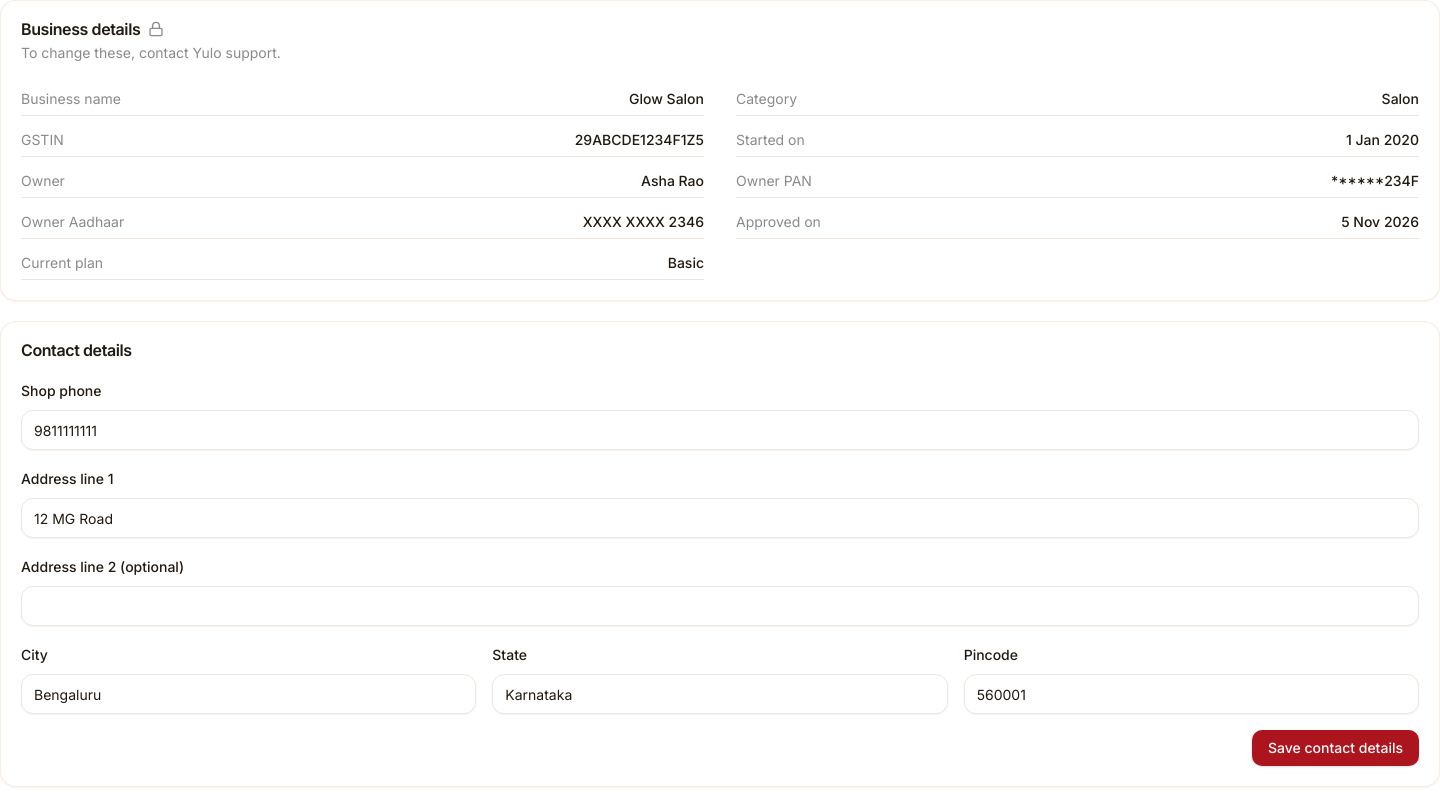
Test: Profile — business › business details read-only, identity masked; the owner edits the contact details
Check: the text "******234F" is shown, box [1331, 171, 1419, 191]
Check: the text "XXXX XXXX 2346" is shown, box [583, 212, 704, 232]
Replace the text in the field labelled "Shop phone" with "123" at (720, 430), box [21, 410, 1419, 450]
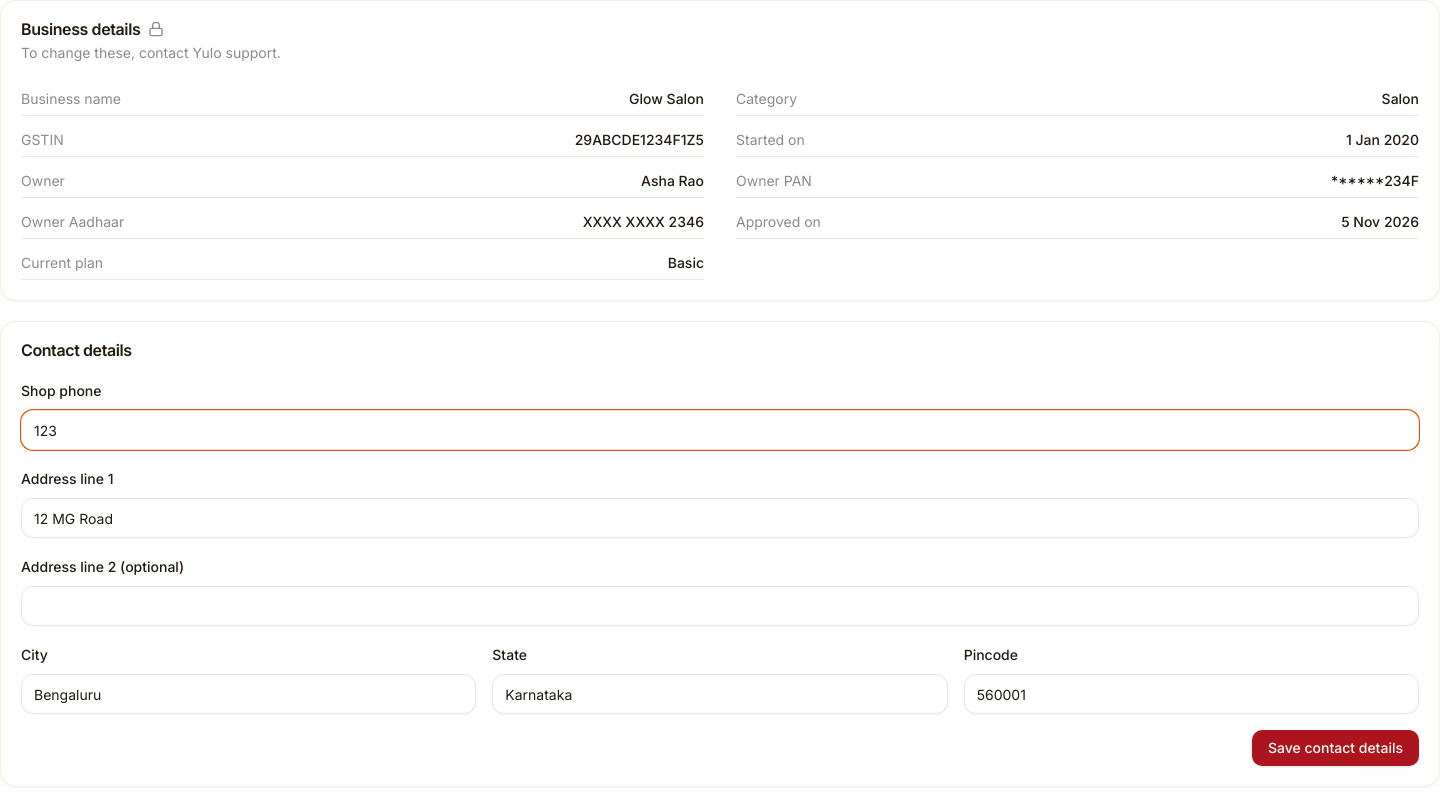
Click the button "Save contact details" at (1335, 748), box [1252, 730, 1419, 766]
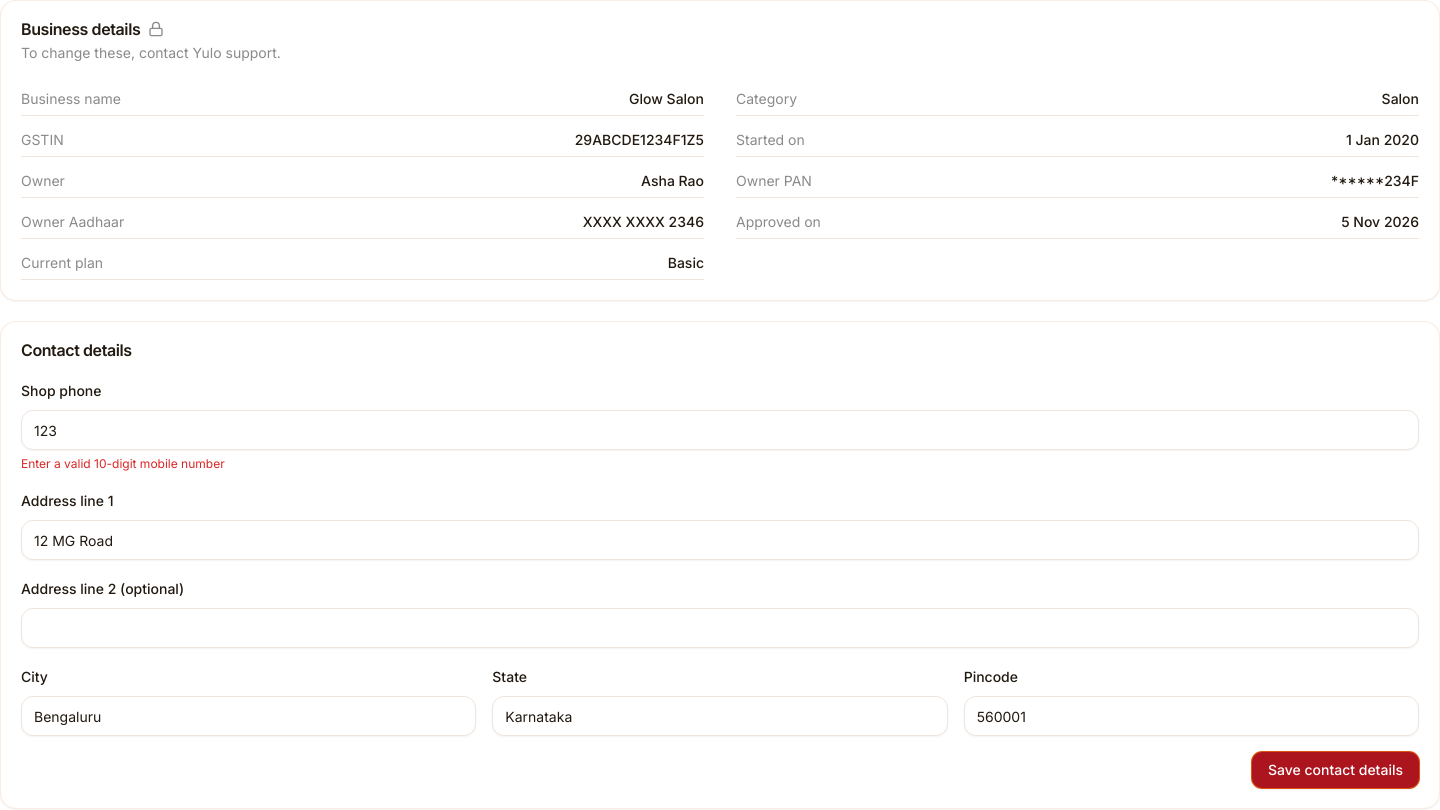
Check: the text "Enter a valid 10-digit mobile number" is shown, box [21, 456, 225, 471]
Replace the text in the field labelled "Shop phone" with "98444 44444" at (720, 430), box [21, 410, 1419, 450]
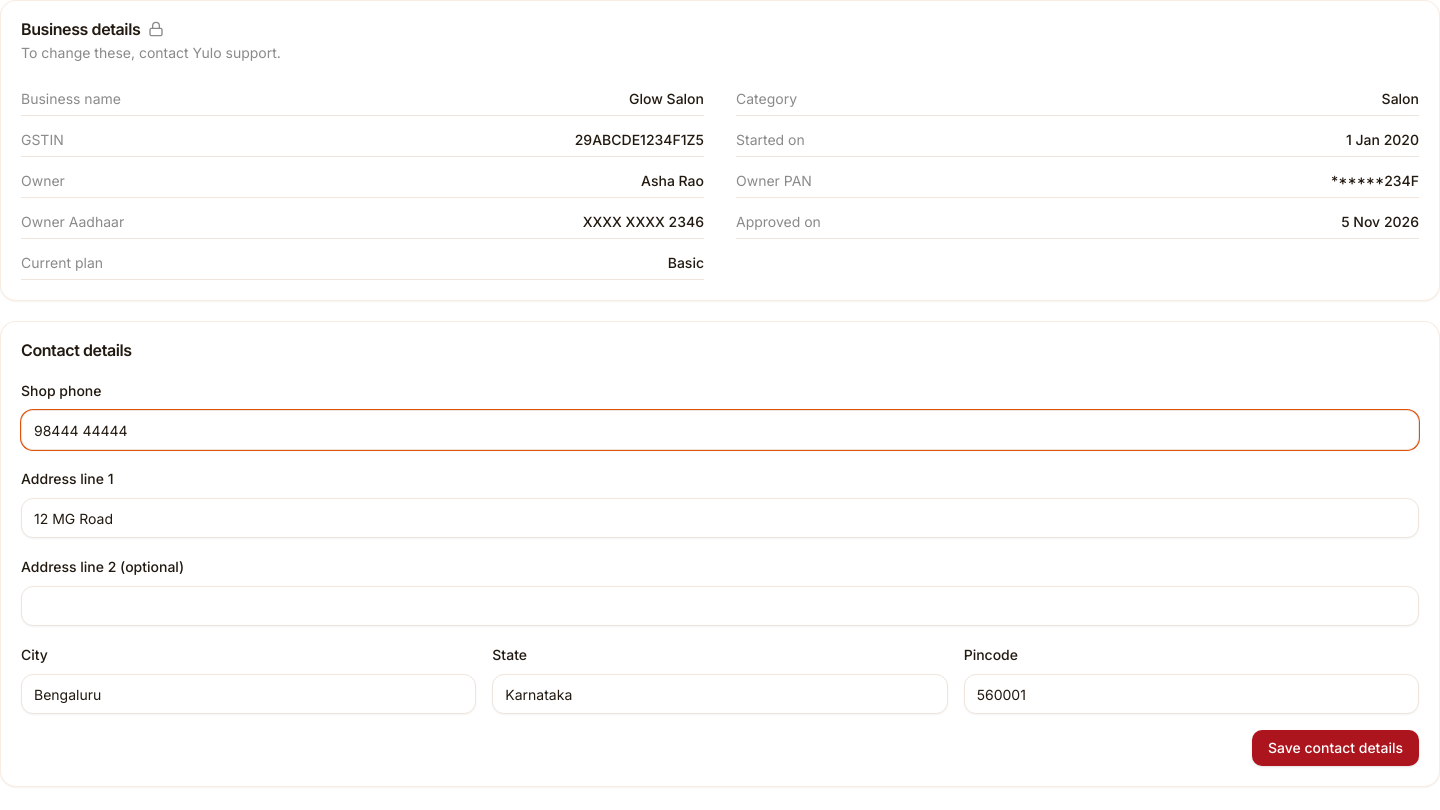
Click the button "Save contact details" at (1335, 748), box [1252, 730, 1419, 766]
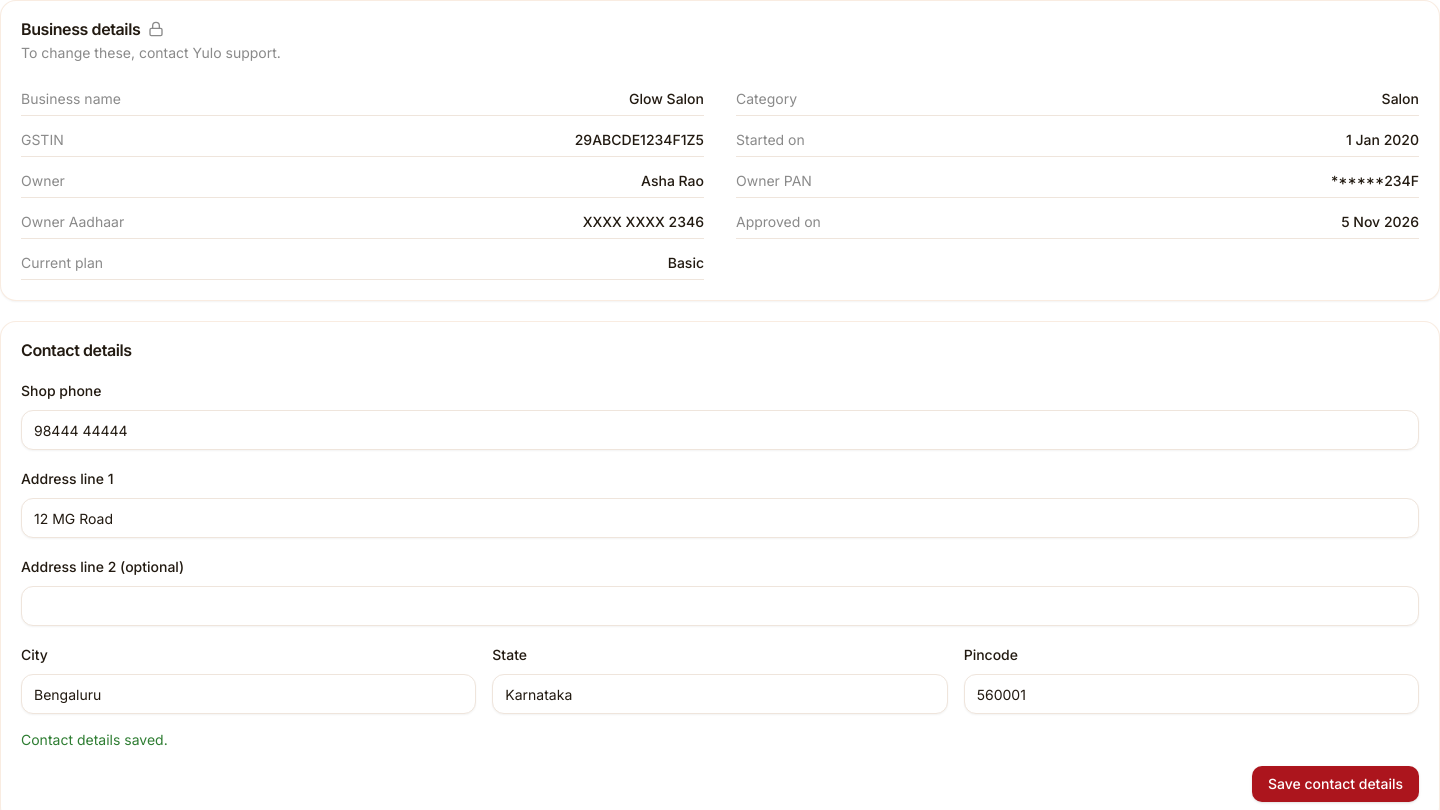
Check: the message shows "Contact details saved", box [21, 731, 168, 748]
